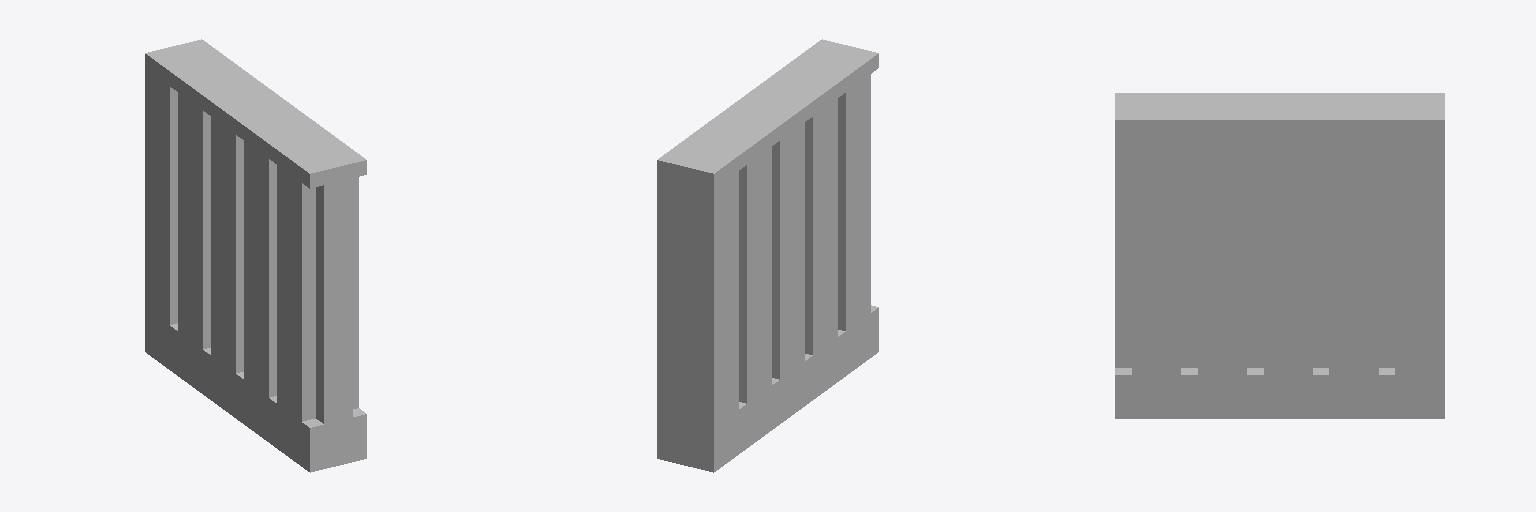
The model's file is wall_thin.obj.
3 views of the same model, side by side, from view 1: azimuth 30°, elevation 25°; view 2: azimuth 150°, elevation 25°; view 3: azimuth 270°, elevation 25° (orthographic).
Parts seen in each view (by area): view 1: wall_thin; view 2: wall_thin; view 3: wall_thin.
Boxes of the visible parts, <box> form: wall_thin: <box>145,39,366,472</box>; wall_thin: <box>657,39,878,472</box>; wall_thin: <box>1115,93,1444,418</box>.
Size of the model in its own units: 4 by 20 by 20.